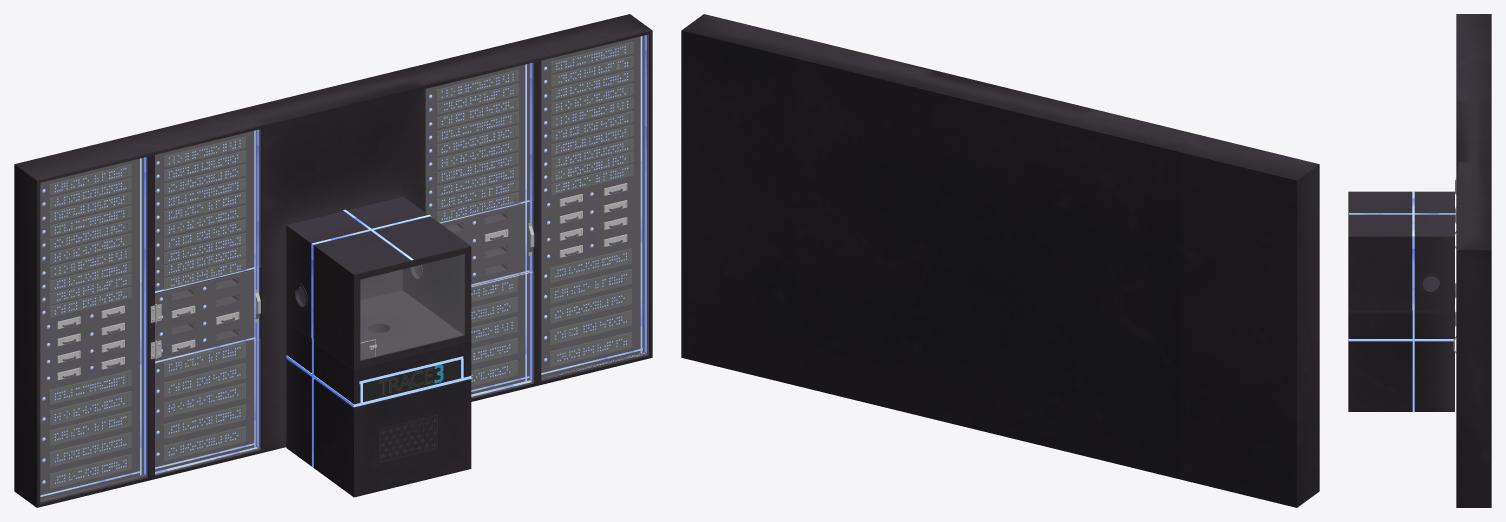
File: server_rack.glb
The picture shows the model from 3 angles, left to right: view 1: azimuth 30°, elevation 25°; view 2: azimuth 150°, elevation 25°; view 3: azimuth 270°, elevation 25°; orthographic projection. The views are drawn at different scales.
Visible parts, largest first — view 1: polySurface361, polySurface93, polySurface87, pCube270, pCube271, pCube606, polySurface367, polySurface92, polySurface88, pCube209, pCube418, polySurface366 (+67 smaller); view 2: polySurface361; view 3: polySurface361, pCube270, pCube271, pCube637, pCube643, pCube645.
Boxes of the visible parts, bbox=[...] form: polySurface361: bbox=[14, 14, 652, 507]; polySurface93: bbox=[541, 35, 648, 380]; polySurface87: bbox=[40, 157, 146, 502]; pCube270: bbox=[286, 196, 471, 368]; pCube271: bbox=[286, 319, 471, 497]; pCube606: bbox=[54, 45, 628, 483]; polySurface367: bbox=[426, 63, 533, 223]; polySurface92: bbox=[155, 129, 260, 292]; polySurface88: bbox=[155, 339, 260, 474]; pCube209: bbox=[360, 254, 464, 356]; pCube418: bbox=[150, 269, 260, 363]; polySurface366: bbox=[470, 272, 533, 397]; polySurface361: bbox=[681, 14, 1319, 507]; polySurface361: bbox=[1456, 14, 1491, 507]; pCube270: bbox=[1348, 191, 1454, 310]; pCube271: bbox=[1348, 310, 1454, 411]; pCube637: bbox=[1349, 310, 1453, 412]; pCube643: bbox=[1412, 237, 1414, 310]; pCube645: bbox=[1349, 213, 1455, 214].
Size of the model in its own units: 189 by 96.01 by 48.53.
1 material, 1 textured.
